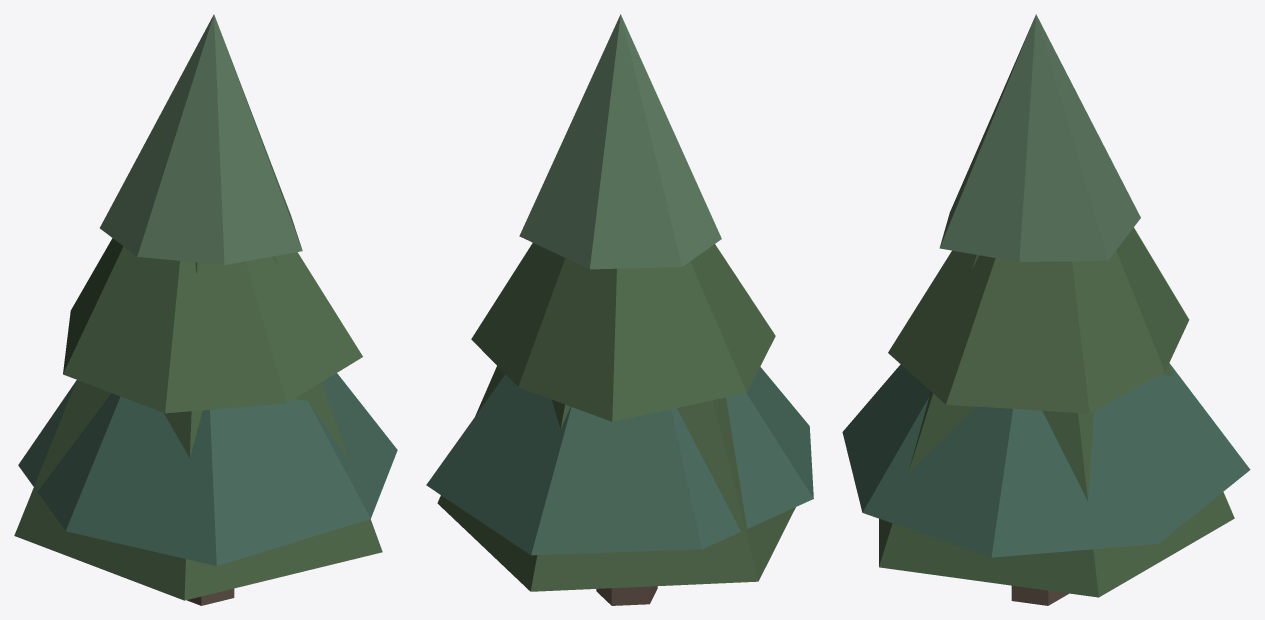
File: tree_conifer.glb
3 renders of one model, left to right at view 1: azimuth 30°, elevation 25°; view 2: azimuth 150°, elevation 25°; view 3: azimuth 270°, elevation 25°, orthographic.
Visible parts, largest first — view 1: tier0, tier1, tier2, far; view 2: tier0, tier1, tier2, far, trunk; view 3: tier0, tier1, tier2, far, trunk.
Boxes of the visible parts, left/top/right/bottom form: tier0: left=18, top=373, right=397, bottom=565; tier1: left=63, top=238, right=362, bottom=413; tier2: left=100, top=14, right=302, bottom=265; far: left=14, top=256, right=382, bottom=600; tier0: left=426, top=367, right=813, bottom=555; tier1: left=471, top=243, right=775, bottom=421; tier2: left=519, top=14, right=721, bottom=269; far: left=437, top=366, right=795, bottom=591; trunk: left=596, top=586, right=657, bottom=605; tier0: left=842, top=363, right=1250, bottom=557; tier1: left=888, top=227, right=1189, bottom=413; tier2: left=939, top=14, right=1140, bottom=261; far: left=879, top=254, right=1234, bottom=597; trunk: left=1011, top=585, right=1068, bottom=605.
Size of the model in its own units: 1.18 by 1.96 by 1.24.
